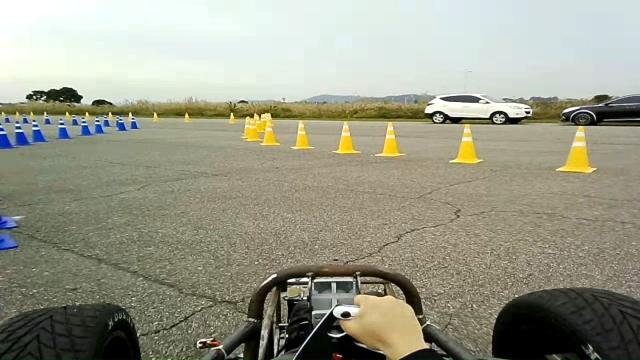blue cone: (30, 119, 48, 142), (13, 124, 31, 146), (0, 126, 15, 149), (56, 118, 72, 139), (78, 117, 93, 136), (93, 116, 105, 133), (116, 115, 128, 131), (43, 111, 52, 125), (130, 118, 140, 129), (102, 116, 110, 127), (70, 114, 78, 125)
yellow cone: (555, 125, 597, 173), (448, 123, 484, 164), (374, 121, 406, 157), (331, 121, 361, 154), (290, 120, 314, 149), (260, 124, 280, 146), (242, 118, 260, 142), (127, 111, 140, 130), (151, 111, 160, 122), (183, 112, 192, 122), (228, 112, 236, 123), (106, 111, 115, 120), (127, 112, 134, 121)
